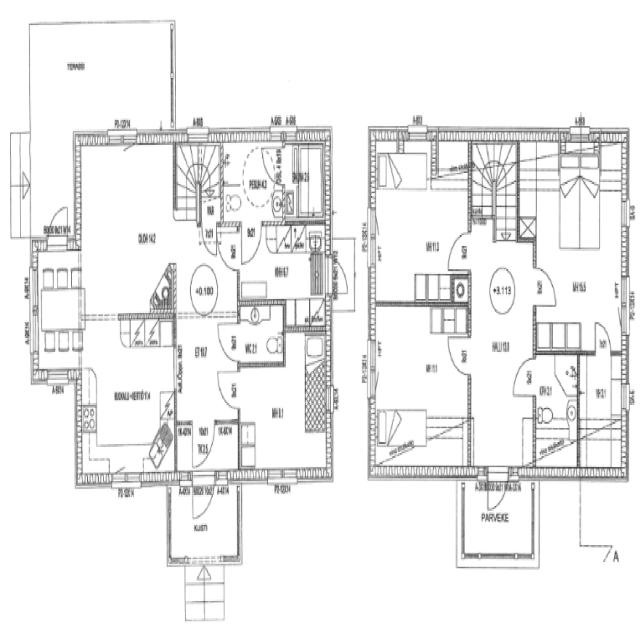door: (530, 260, 560, 313), (214, 363, 242, 416), (444, 331, 473, 381), (510, 352, 537, 404), (444, 224, 471, 273), (486, 463, 510, 517), (107, 122, 141, 157), (215, 317, 239, 366), (216, 225, 240, 273), (46, 200, 71, 245), (192, 474, 215, 522), (240, 222, 262, 268), (591, 316, 614, 356)
window: (36, 365, 78, 396), (110, 468, 147, 498), (267, 466, 304, 493), (367, 207, 380, 268), (405, 122, 433, 150), (368, 337, 380, 401), (213, 468, 231, 489)
zone: (529, 138, 630, 364), (77, 141, 178, 317), (370, 302, 470, 479), (78, 316, 177, 482), (370, 142, 468, 302), (237, 355, 329, 475), (235, 221, 328, 324), (32, 254, 82, 378), (175, 221, 234, 315), (533, 352, 579, 472), (579, 353, 628, 452), (222, 140, 280, 222), (277, 138, 327, 223), (235, 303, 286, 367), (578, 417, 627, 480)
